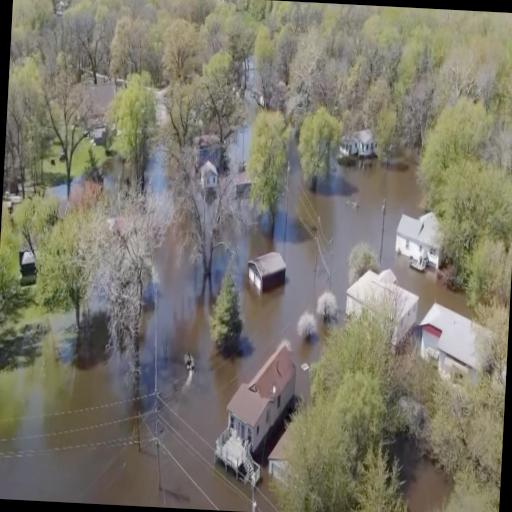flood: (0, 141, 469, 512), (394, 437, 451, 512), (228, 125, 251, 173), (257, 456, 276, 512), (145, 148, 166, 194), (103, 155, 122, 189), (46, 178, 66, 210), (71, 175, 82, 189), (123, 163, 131, 179)
house: (212, 338, 298, 492), (416, 298, 510, 404), (344, 264, 423, 350), (392, 210, 448, 274), (244, 243, 288, 300), (338, 122, 378, 162), (199, 157, 220, 190), (233, 168, 252, 200)
